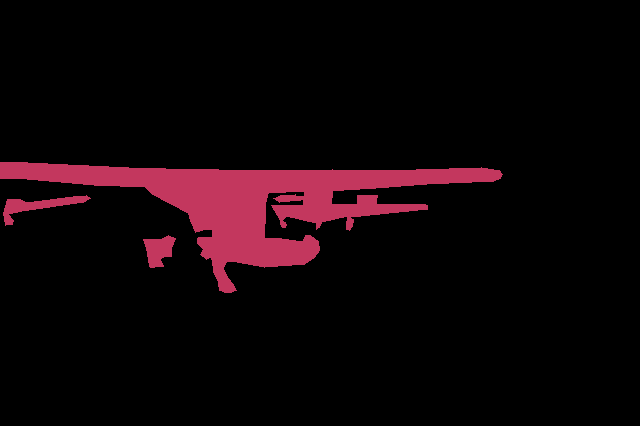Airplane: (0, 162, 502, 293), (269, 190, 428, 231), (3, 195, 90, 225), (273, 194, 377, 207)
